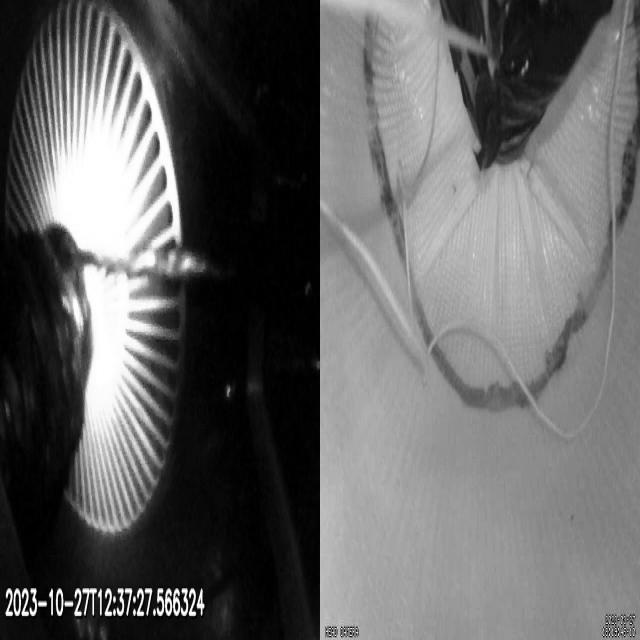red-circle: (363, 1, 640, 414)
